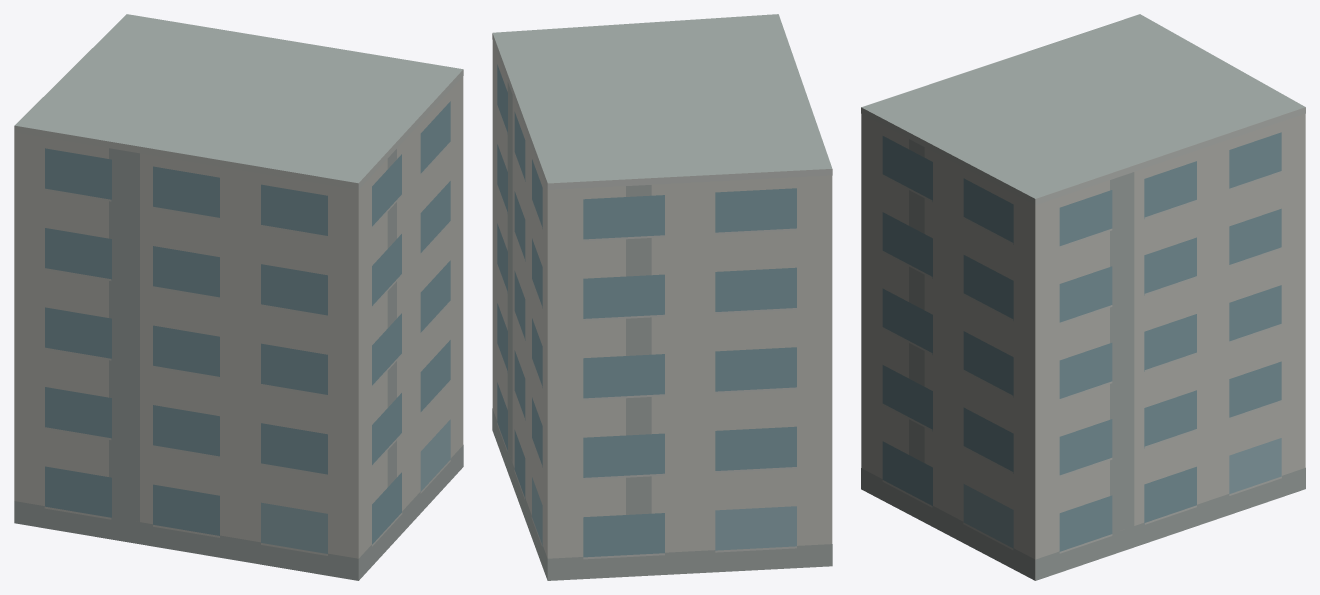
Rendered from survey-upis-32729617.glb.
3 renders of one model, left to right at view 1: azimuth 30°, elevation 25°; view 2: azimuth 150°, elevation 25°; view 3: azimuth 270°, elevation 25°, orthographic. The views are drawn at different scales.
Parts seen in each view (by area): view 1: survey-upis-32729617.tmp; view 2: survey-upis-32729617.tmp; view 3: survey-upis-32729617.tmp.
Boxes of the visible parts, <box> form: survey-upis-32729617.tmp: <box>14,14,463,580</box>; survey-upis-32729617.tmp: <box>492,14,832,580</box>; survey-upis-32729617.tmp: <box>861,14,1305,580</box>.
Bounding box in the file's own units: 14.96 × 14.4 × 15.2.
